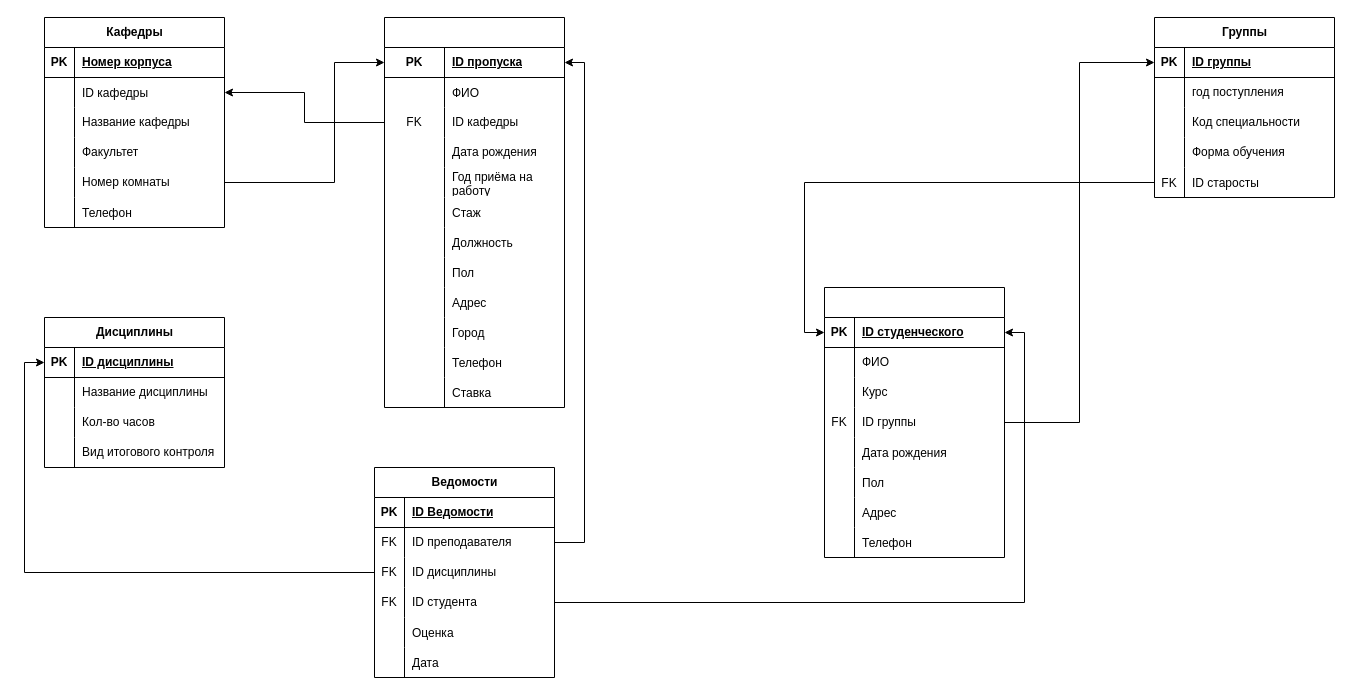
Image size: 1352x695. Some labels were removed from this diagram. Each missing label, with the box of its shape:
Преподаватели: (384, 16, 564, 408)
Студенты: (824, 286, 1004, 558)
